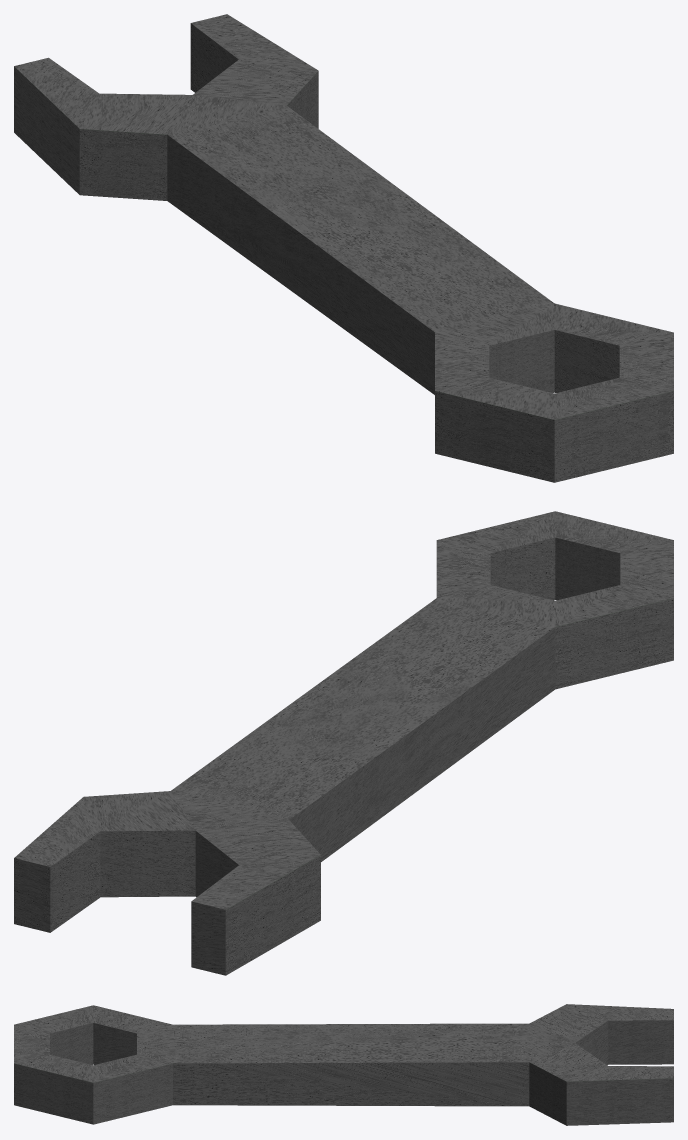
The model's file is Wrench.fbx.
3 views of the same model, one above another, from view 1: azimuth 30°, elevation 25°; view 2: azimuth 150°, elevation 25°; view 3: azimuth 270°, elevation 25° (orthographic). The views are drawn at different scales.
Parts seen in each view (by area): view 1: Cylinder.001; view 2: Cylinder.001; view 3: Cylinder.001.
Part boxes in pixels (bbox=[...]): Cylinder.001: bbox=[14, 14, 673, 482]; Cylinder.001: bbox=[14, 511, 673, 975]; Cylinder.001: bbox=[14, 1004, 673, 1125].
Bounding box in the file's own units: 52.92 × 14.05 × 190.
